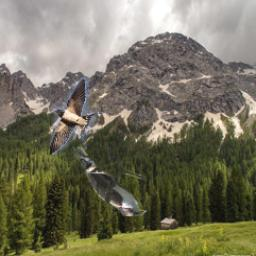Cuckoo: (72, 147, 147, 217)
Swallow: (50, 77, 103, 155)
